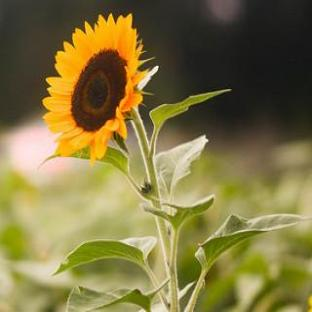sunflower: (41, 14, 230, 312)
